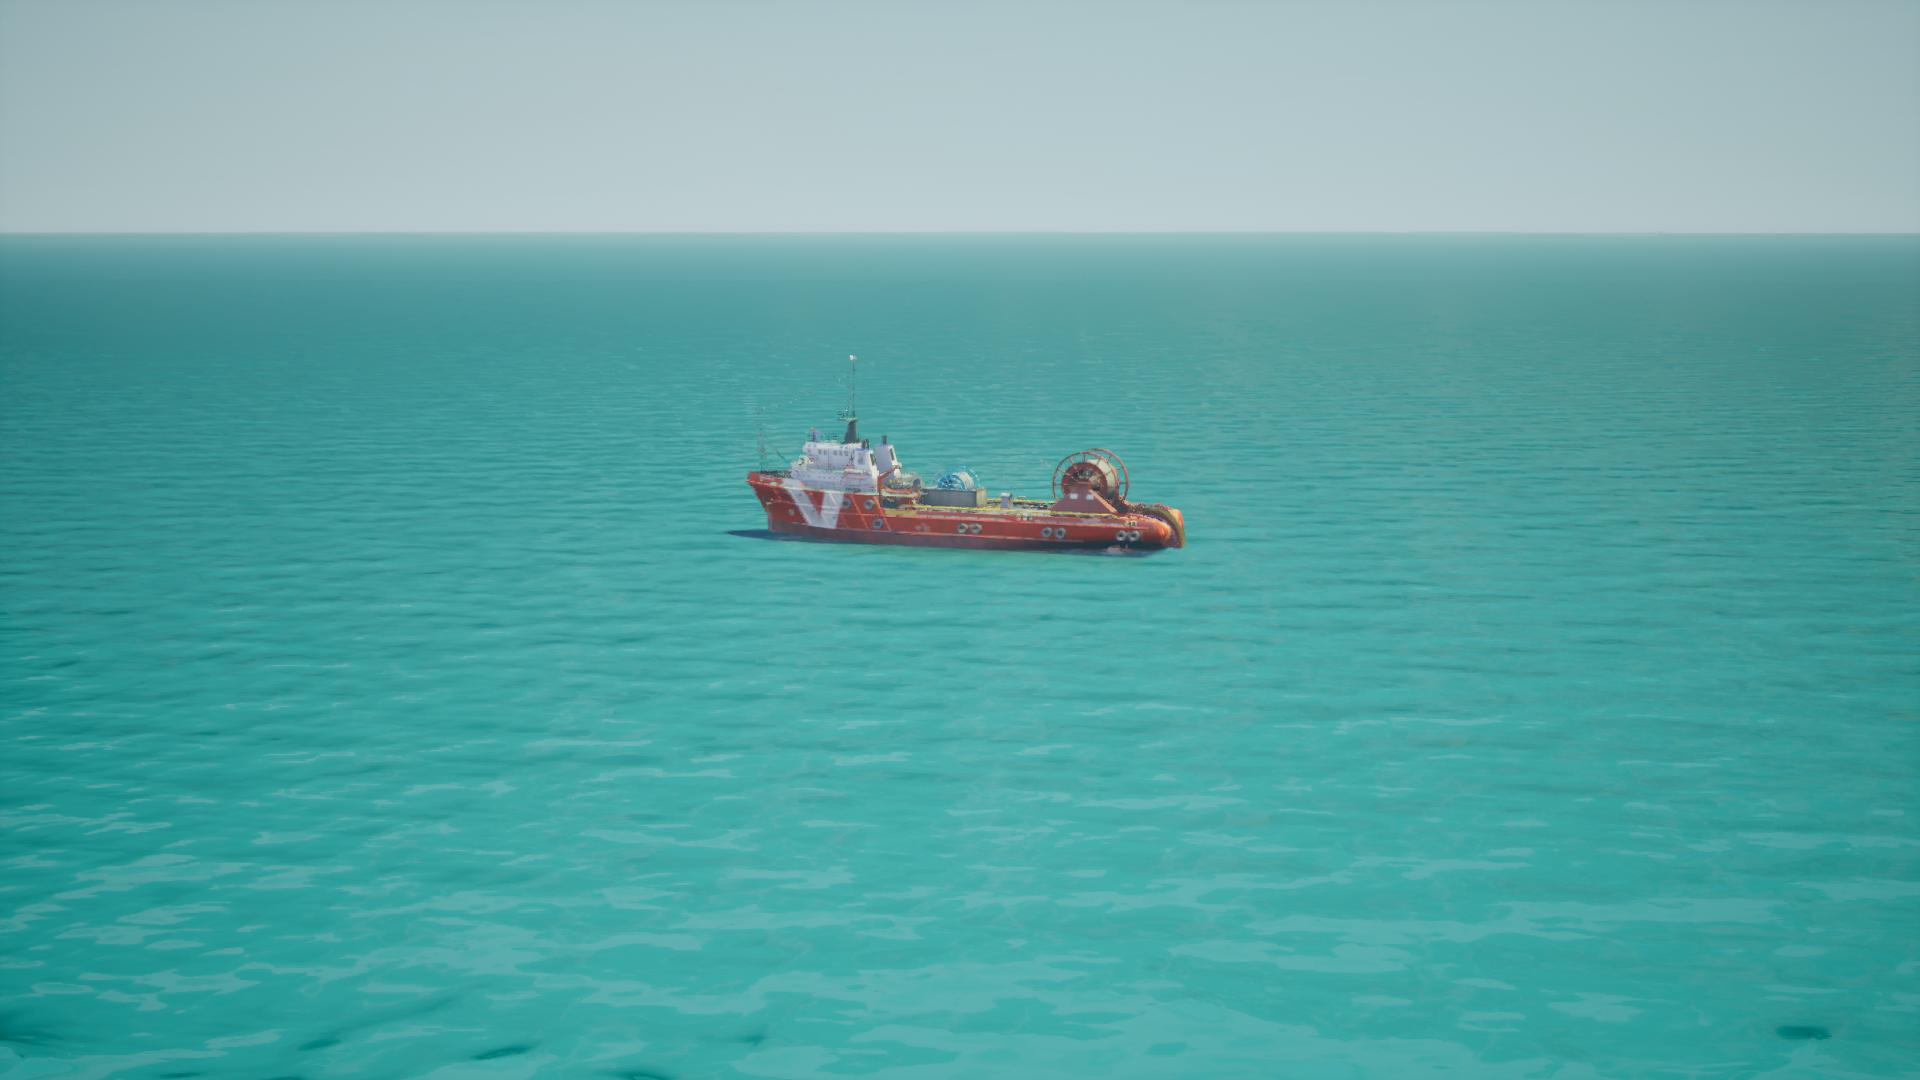Tug Boat: (738, 406, 1185, 559)
